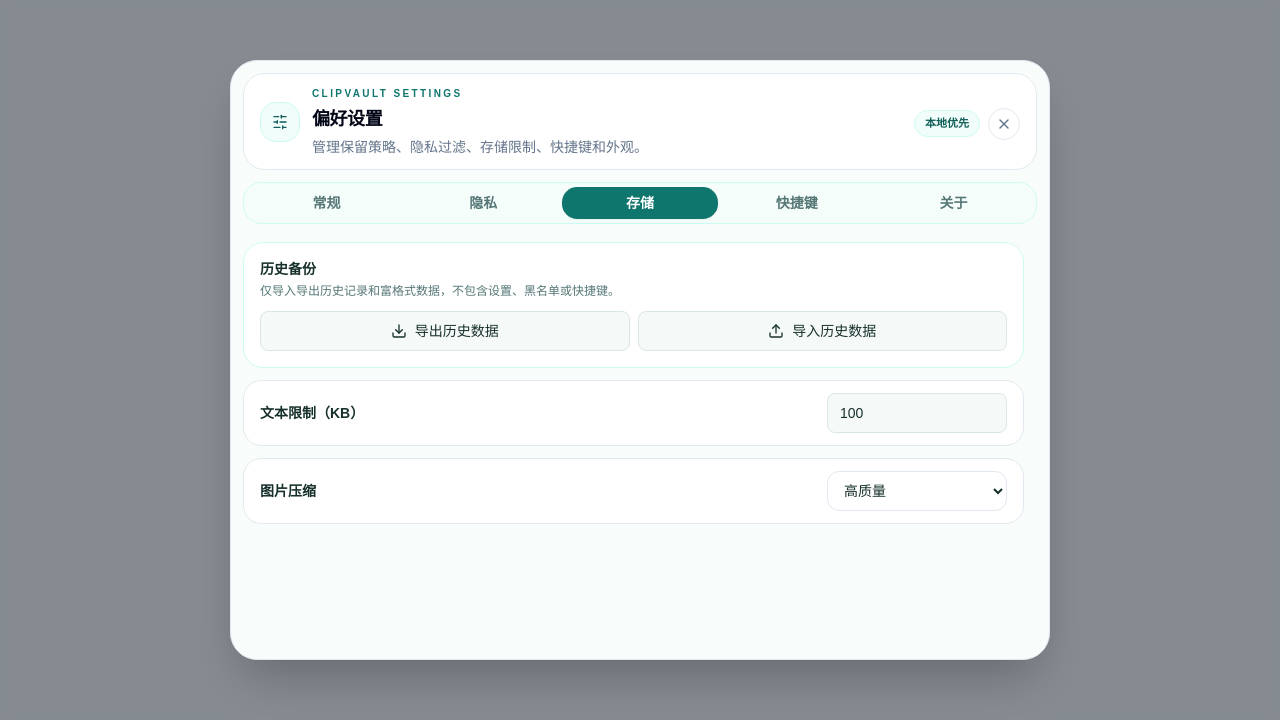
Test: SettingsPanel › imports history and shows merge summary
Click the button "导入历史数据" at (822, 331), box [638,311,1007,351]
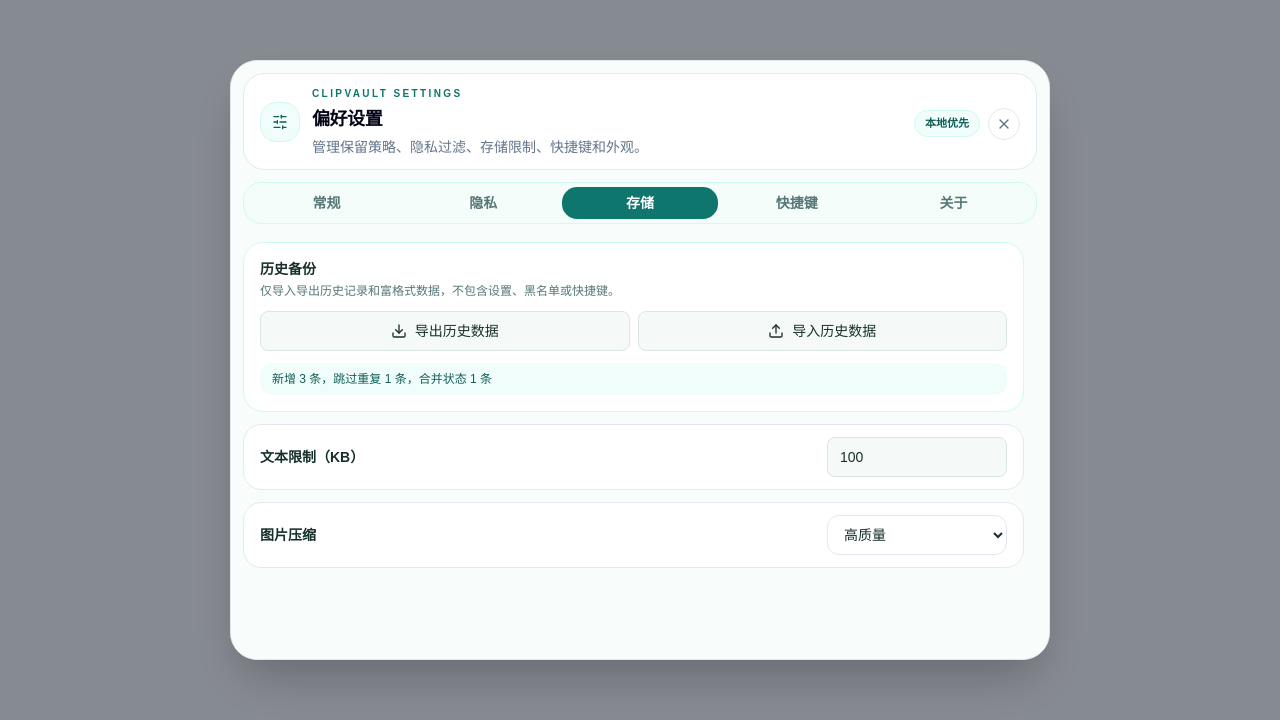
Now the text "新增 3 条，跳过重复 1 条，合并状态 1 条" is shown, box [260,363,1007,395]
